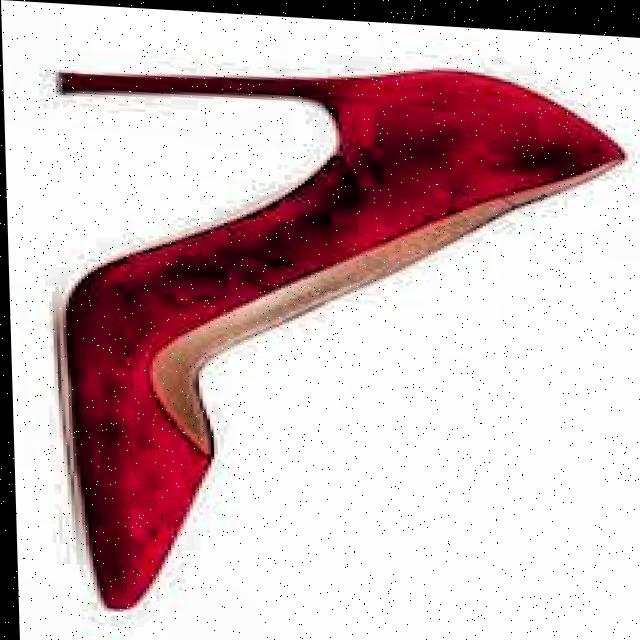shoes: (46, 42, 640, 640)
